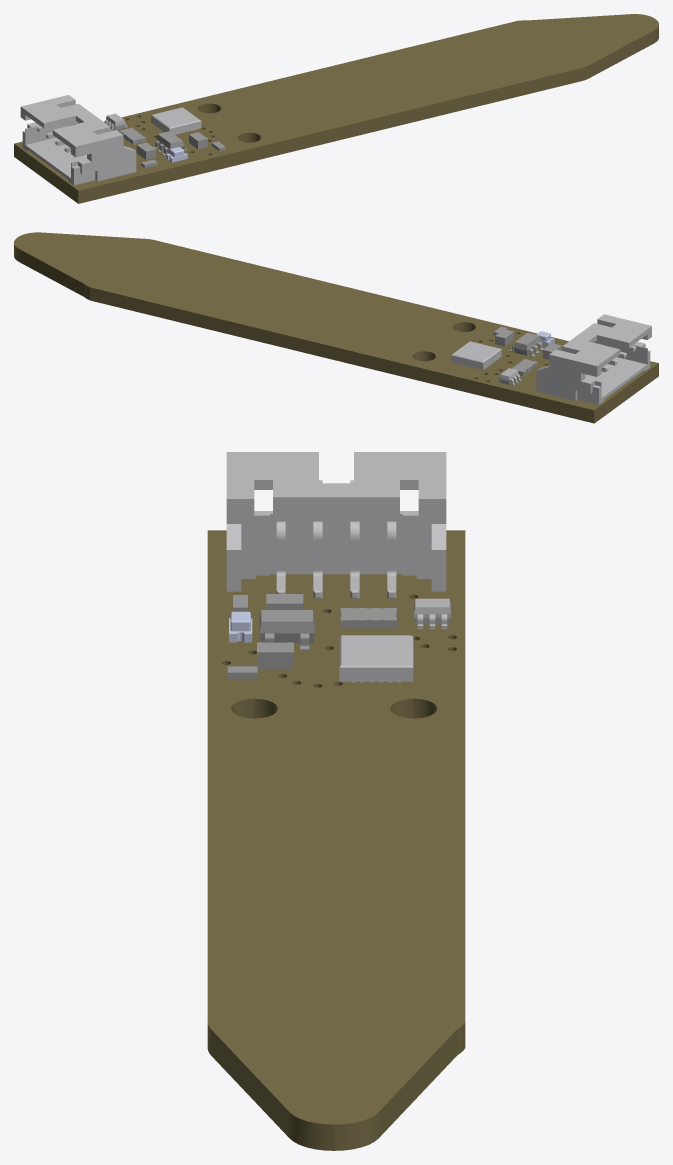
File: ada-4026.glb
3 views of the same model, one above another, from view 1: azimuth 30°, elevation 25°; view 2: azimuth 150°, elevation 25°; view 3: azimuth 270°, elevation 25° (orthographic). The views are drawn at different scales.
Visible parts, largest first — view 1: 0.16666666666666666_0.16666666666666666_0.08333333333333333_, 0.5833333333333334_0.5833333333333334_0.5833333333333334_0.8, 0.3333333333333333_0.3333333333333333_0.3333333333333333_0; view 2: 0.16666666666666666_0.16666666666666666_0.08333333333333333_, 0.5833333333333334_0.5833333333333334_0.5833333333333334_0.8, 0.3333333333333333_0.3333333333333333_0.3333333333333333_0, 0.5_0.5_0.5_0.85; view 3: 0.16666666666666666_0.16666666666666666_0.08333333333333333_, 0.5833333333333334_0.5833333333333334_0.5833333333333334_0.8, 0.3333333333333333_0.3333333333333333_0.3333333333333333_0, 0.5_0.5_0.5_0.85.
Part boxes in pixels (x1,y1,x2,y2): 0.16666666666666666_0.16666666666666666_0.08333333333333333_: (14,14,658,203); 0.5833333333333334_0.5833333333333334_0.5833333333333334_0.8: (20,95,201,185); 0.3333333333333333_0.3333333333333333_0.3333333333333333_0: (119,127,225,168); 0.16666666666666666_0.16666666666666666_0.08333333333333333_: (14,232,658,423); 0.5833333333333334_0.5833333333333334_0.5833333333333334_0.8: (451,314,651,404); 0.3333333333333333_0.3333333333333333_0.3333333333333333_0: (493,326,561,376); 0.5_0.5_0.5_0.85: (497,368,521,386); 0.16666666666666666_0.16666666666666666_0.08333333333333333_: (207,530,465,1150); 0.5833333333333334_0.5833333333333334_0.5833333333333334_0.8: (226,452,446,682); 0.3333333333333333_0.3333333333333333_0.3333333333333333_0: (227,594,396,678); 0.5_0.5_0.5_0.85: (414,598,450,629).
Size of the model in its own units: 7.62 by 0.6371 by 1.4.
